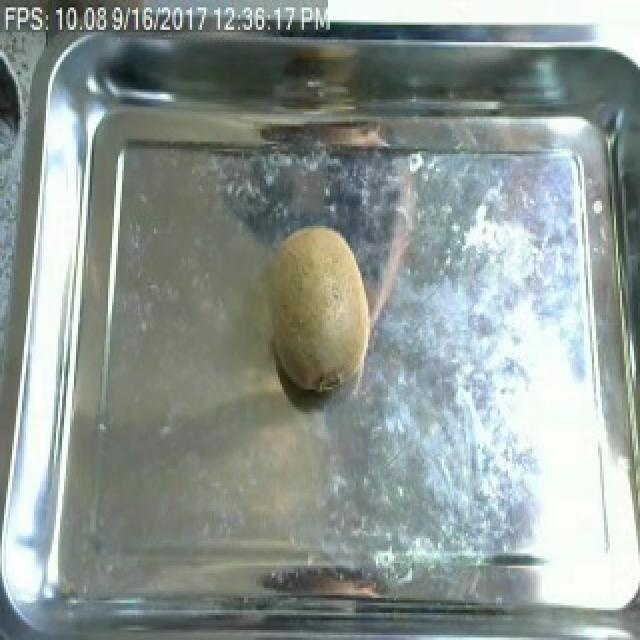Fruit: (258, 213, 382, 402)
